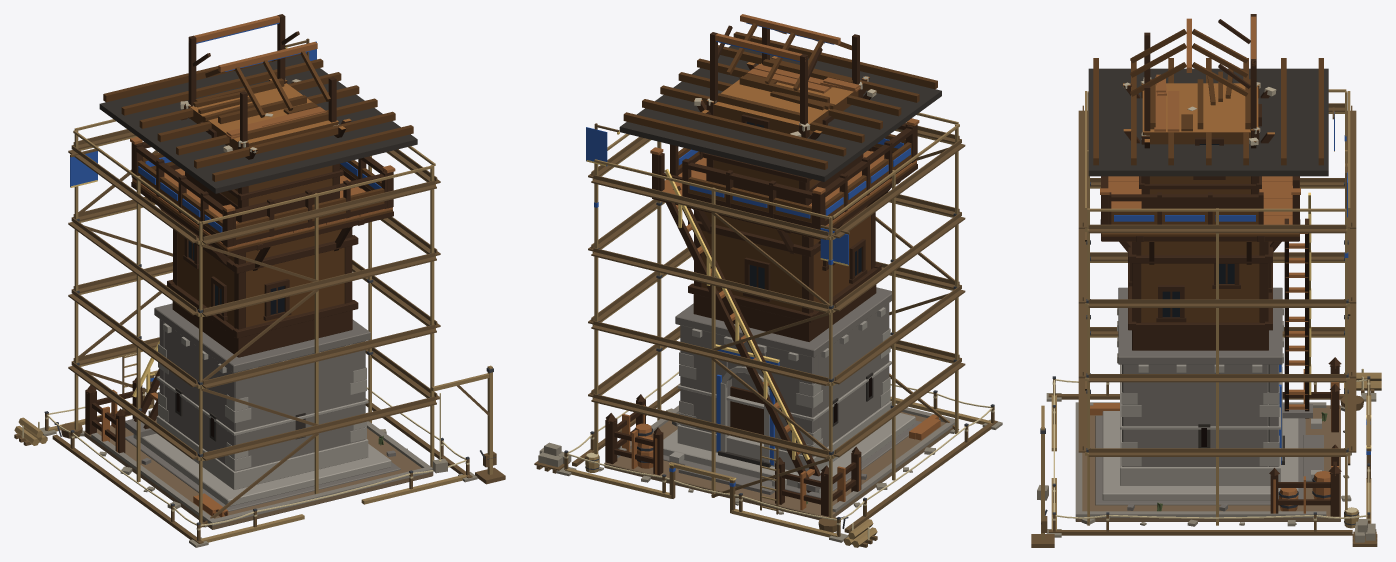
The picture shows the model from 3 angles, left to right: view 1: azimuth 30°, elevation 25°; view 2: azimuth 150°, elevation 25°; view 3: azimuth 270°, elevation 25°; orthographic projection. The views are drawn at different scales.
Visible parts, largest first — view 1: WT-主体, WT-team, WT-自发光; view 2: WT-主体, WT-team, WT-team_trim, WT-自发光; view 3: WT-主体, WT-team, WT-自发光, WT-team_trim.
Boxes of the visible parts, x1,y1,x2,y2 form: WT-主体: [14, 14, 505, 547]; WT-team: [70, 23, 381, 381]; WT-自发光: [176, 241, 284, 437]; WT-主体: [534, 14, 1002, 547]; WT-team: [586, 23, 910, 486]; WT-team_trim: [586, 131, 848, 480]; WT-自发光: [746, 121, 871, 422]; WT-主体: [1031, 14, 1381, 547]; WT-team: [1114, 112, 1370, 464]; WT-自发光: [1162, 144, 1234, 446]; WT-team_trim: [1308, 151, 1371, 448].
Bounding box in the file's own units: 10.47 × 12.65 × 9.36.
4 materials, 2 textured.
